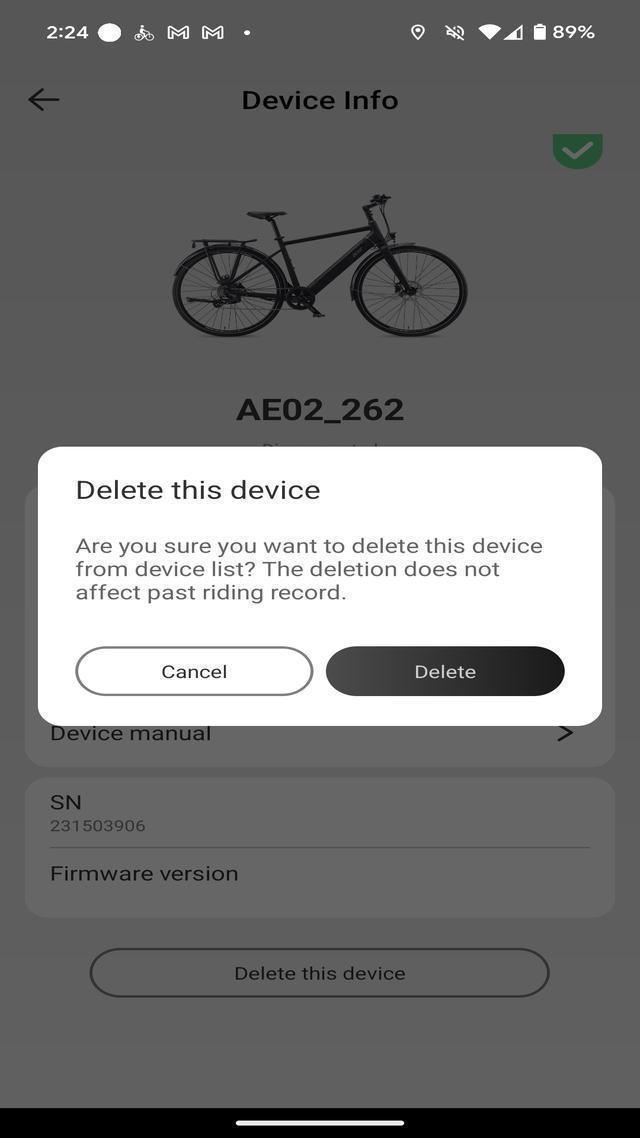Icon: (552, 130, 604, 170), (22, 87, 62, 118), (476, 20, 504, 42), (163, 22, 192, 42), (97, 22, 123, 44), (442, 23, 468, 44), (132, 22, 156, 43), (198, 23, 224, 42), (505, 20, 526, 42), (530, 21, 547, 43), (411, 24, 427, 47), (241, 24, 251, 42)
Image: (155, 188, 484, 350)
Text: (70, 535, 550, 558), (71, 556, 512, 580), (66, 473, 327, 507), (72, 580, 357, 608), (231, 391, 412, 427), (238, 82, 401, 116), (228, 960, 416, 988), (46, 862, 242, 886), (406, 660, 484, 684), (152, 660, 235, 682), (40, 788, 88, 813), (44, 22, 91, 43), (552, 23, 600, 43)
TextButton: (87, 945, 550, 1001), (324, 645, 570, 697), (73, 645, 314, 696), (45, 816, 148, 837)
